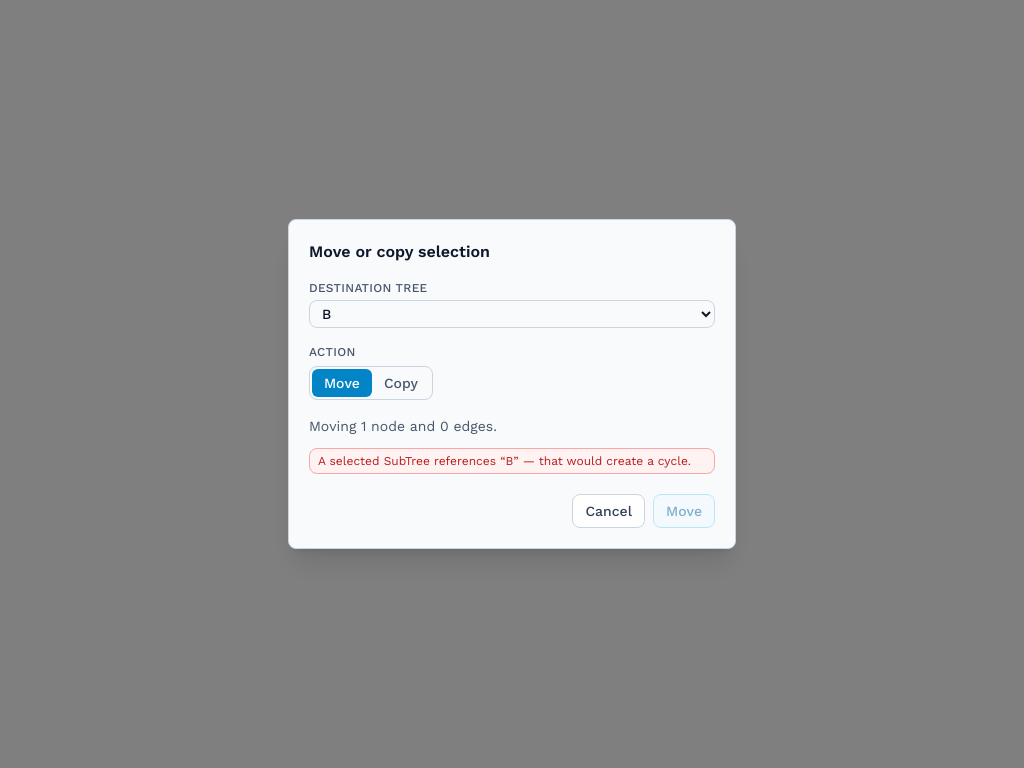
Test: MoveCopyModal › V2: disables Confirm when a selected SubTree references the destination
Check: the message shows "cycle", box 513,454 -> 691,468
Check: the button "Move" is disabled, box 653,494 -> 715,528
// Switch destination to C → no cycle, Confirm enabled.
Select "C" in the dropdown labelled "Destination tree" at (512,314), box 309,300 -> 715,328
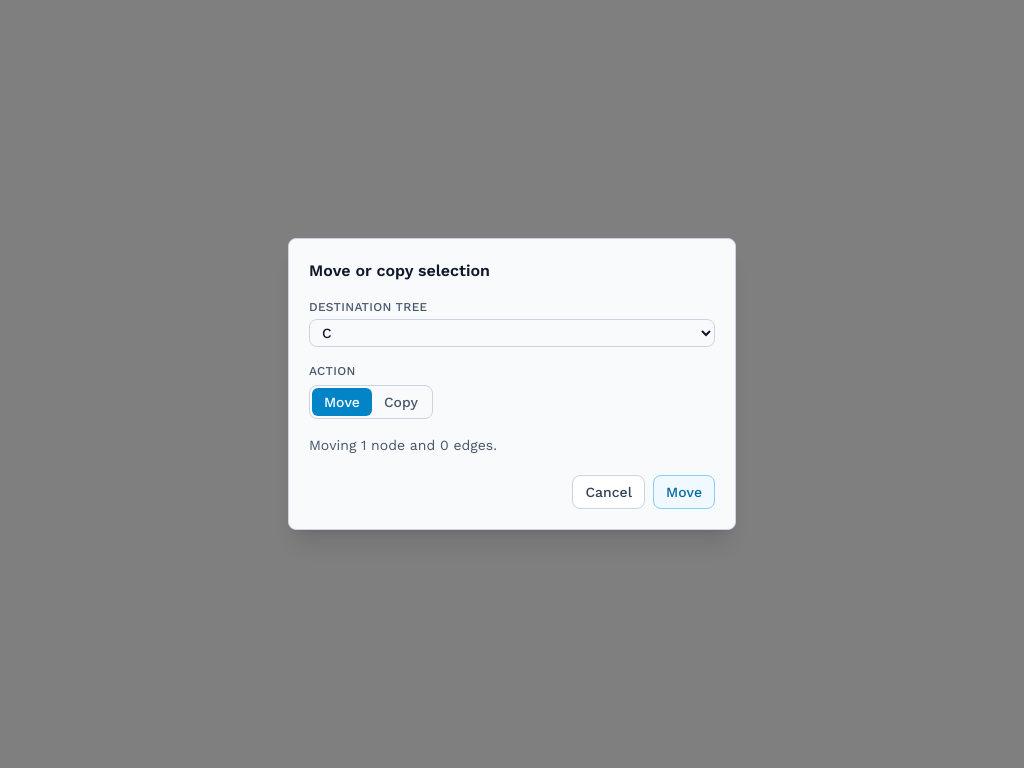
Check: the message "A selected SubTree references “B” — that would create a cycle." is gone
Check: the button "Move" is enabled, box 653,475 -> 715,509
